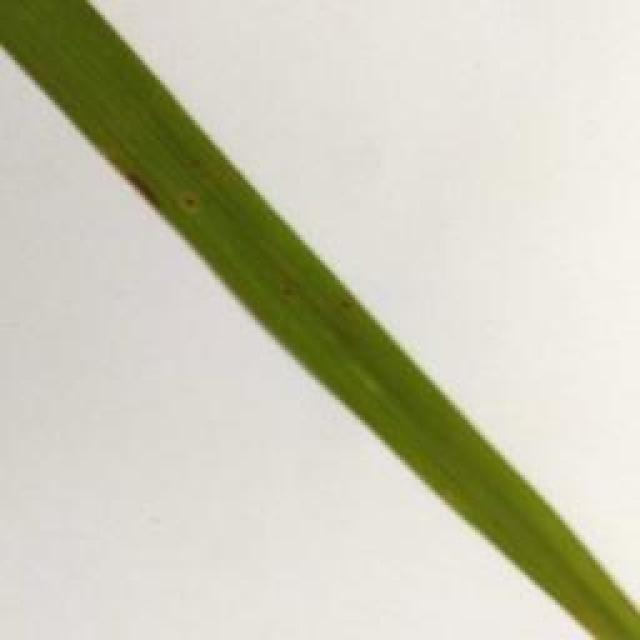Brown_Spot: (110, 162, 168, 218), (264, 274, 301, 305), (181, 188, 211, 218), (334, 282, 362, 314)
